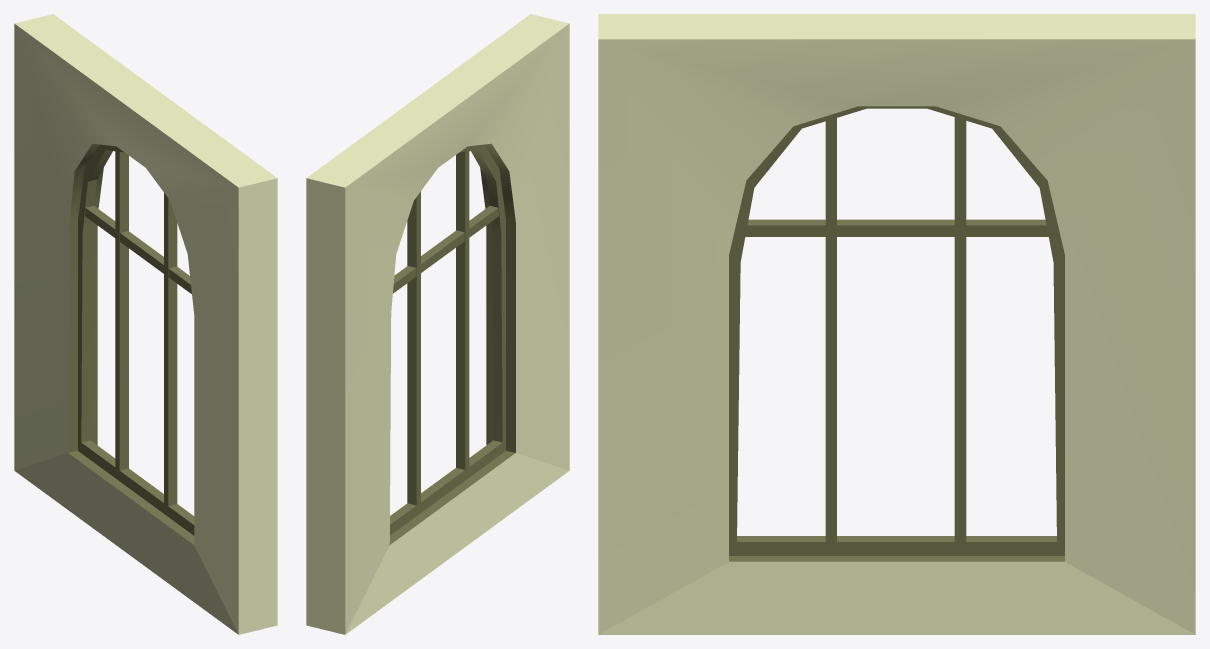
The model's file is SM_WindowWall.fbx.
3 views of the same model, side by side, from view 1: azimuth 30°, elevation 25°; view 2: azimuth 150°, elevation 25°; view 3: azimuth 270°, elevation 25° (orthographic). The views are drawn at different scales.
Visible parts, largest first — view 1: SM_Window; view 2: SM_Window; view 3: SM_Window.
Part boxes in pixels (x1,y1,x2,y2): SM_Window: [14, 14, 277, 634]; SM_Window: [306, 14, 569, 634]; SM_Window: [598, 14, 1195, 634].
Bounding box in the file's own units: 0.002 × 0.022 × 0.02.
